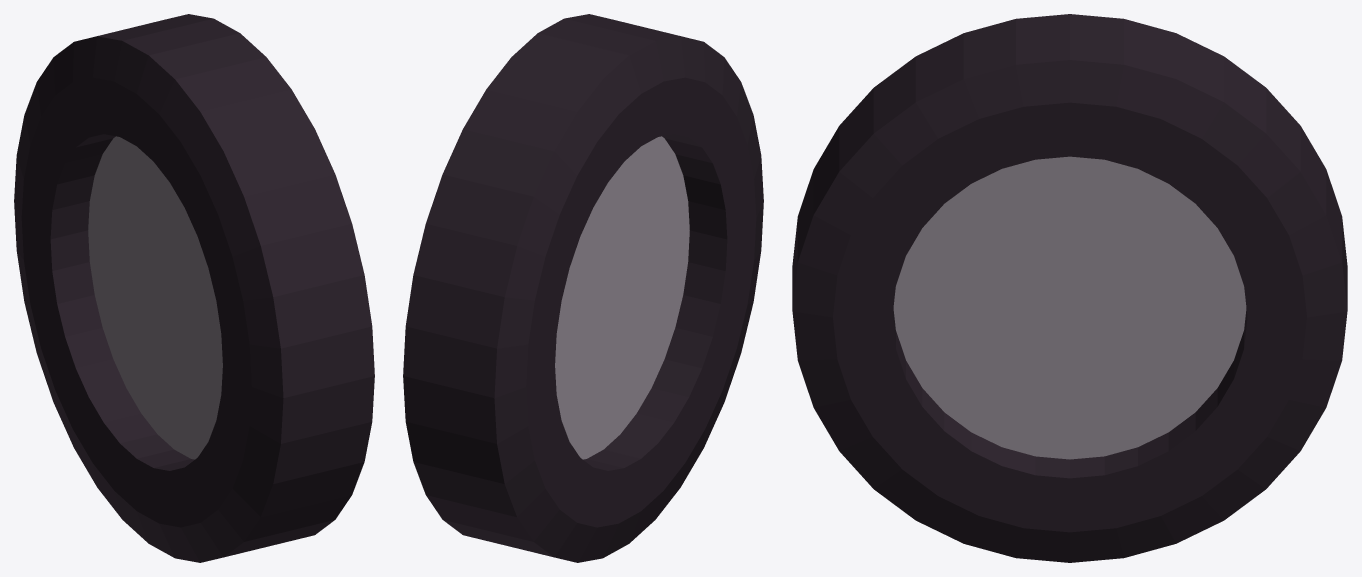
File: wheel-Textured_02.fbx
3 views of the same model, side by side, from view 1: azimuth 30°, elevation 25°; view 2: azimuth 150°, elevation 25°; view 3: azimuth 270°, elevation 25° (orthographic). The views are drawn at different scales.
Visible parts, largest first — view 1: Circle; view 2: Circle; view 3: Circle.
Part boxes in pixels (x1,y1,x2,y2): Circle: [14, 14, 374, 562]; Circle: [403, 14, 763, 562]; Circle: [792, 14, 1347, 562].
Size of the model in its own units: 15.71 by 63.51 by 63.51.
Materials: 1 (1 with a texture image).
